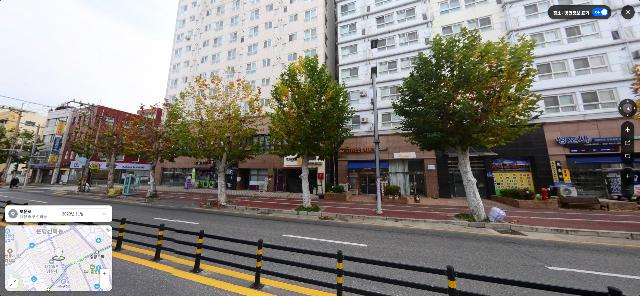other: (390, 25, 547, 222), (264, 52, 358, 208), (172, 70, 269, 204), (128, 103, 190, 198), (86, 112, 148, 195)
